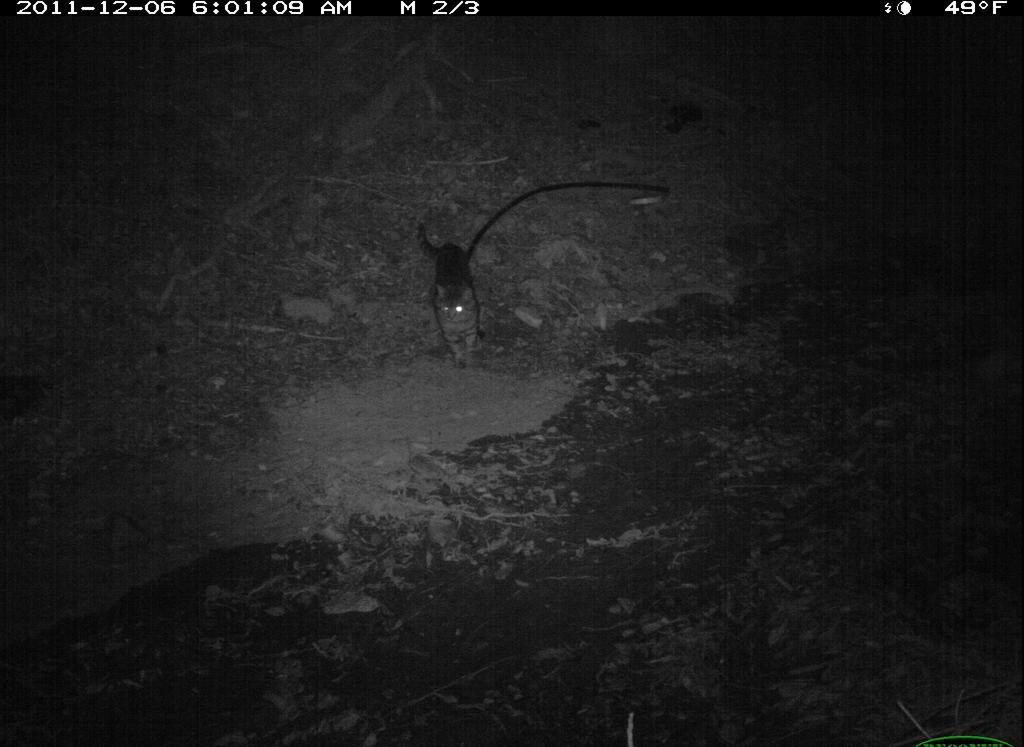cat: (408, 214, 498, 372)
